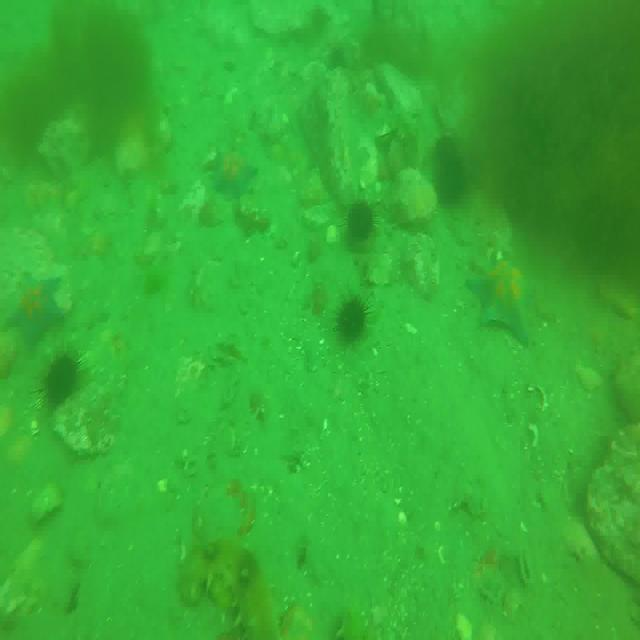echinus: (42, 350, 81, 414), (435, 141, 467, 210), (334, 289, 369, 348), (346, 198, 380, 248)
holothurian: (185, 537, 280, 640)
starfish: (472, 248, 542, 346), (5, 272, 64, 346), (212, 146, 259, 200)
